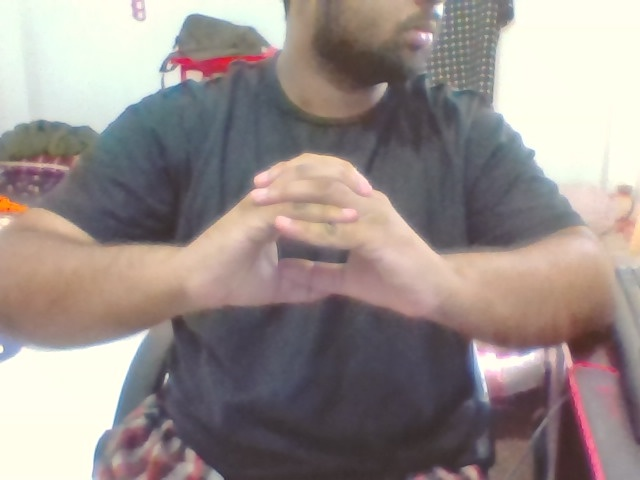O: (221, 143, 440, 329)
